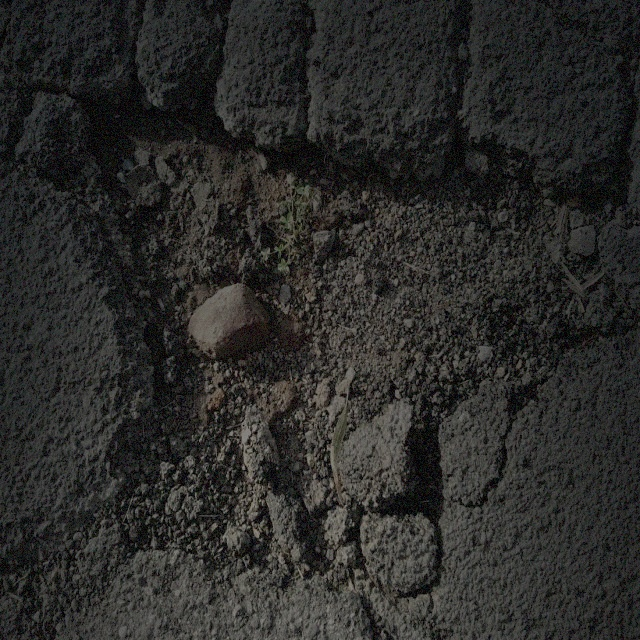pothole: (38, 42, 605, 589)
